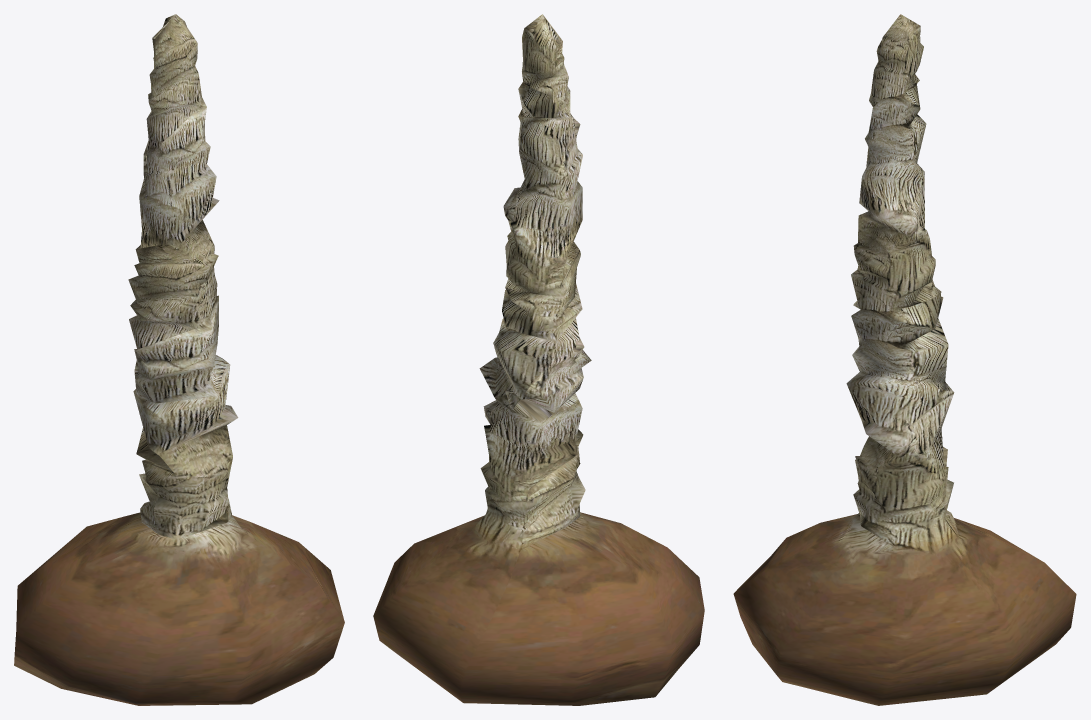
Rendered from rock_taan_stalagspire_l1.fbx.
3 renders of one model, left to right at view 1: azimuth 30°, elevation 25°; view 2: azimuth 150°, elevation 25°; view 3: azimuth 270°, elevation 25°, orthographic.
Parts seen in each view (by area): view 1: mesh_node; view 2: mesh_node; view 3: mesh_node.
Boxes of the visible parts, bbox=[...] form: mesh_node: bbox=[14, 14, 344, 705]; mesh_node: bbox=[373, 14, 704, 705]; mesh_node: bbox=[733, 14, 1076, 705].
Size of the model in its own units: 7.34 by 15 by 7.4.
